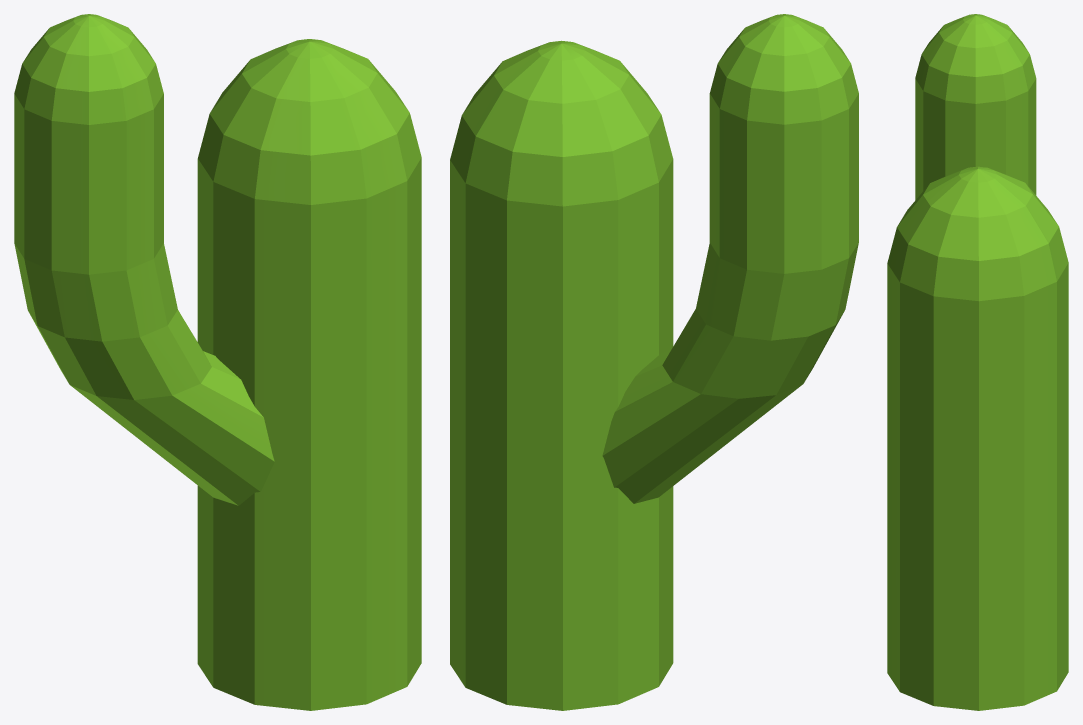
The model's file is Cactus_2.fbx.
3 views of the same model, side by side, from view 1: azimuth 30°, elevation 25°; view 2: azimuth 150°, elevation 25°; view 3: azimuth 270°, elevation 25° (orthographic). The views are drawn at different scales.
Parts seen in each view (by area): view 1: Cactus_2; view 2: Cactus_2; view 3: Cactus_2.
Part boxes in pixels (x1,y1,x2,y2): Cactus_2: (14, 14, 421, 710); Cactus_2: (450, 14, 858, 710); Cactus_2: (887, 14, 1068, 710).
Size of the model in its own units: 0.6188 by 1.08 by 0.3126.
